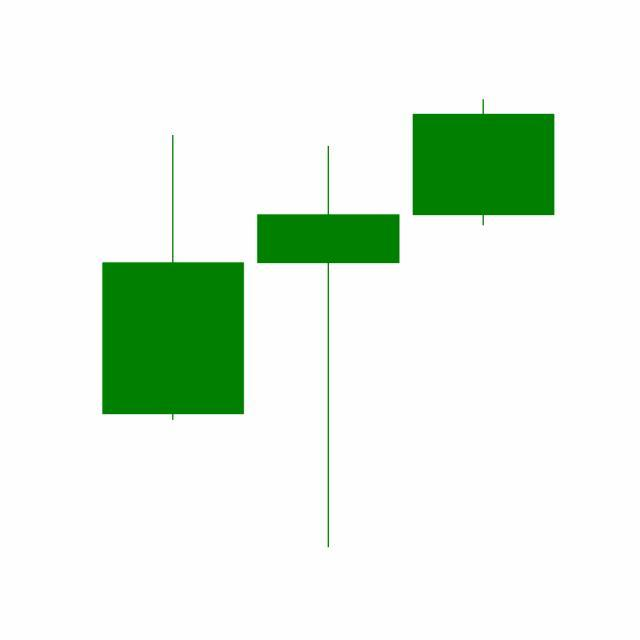Spinning Top: (250, 142, 407, 552)
